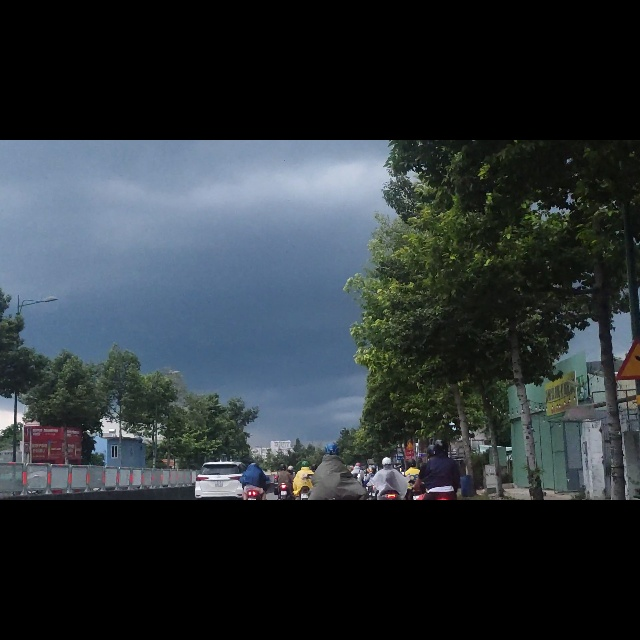bien_hieu_lenh: (616, 346, 640, 429)
